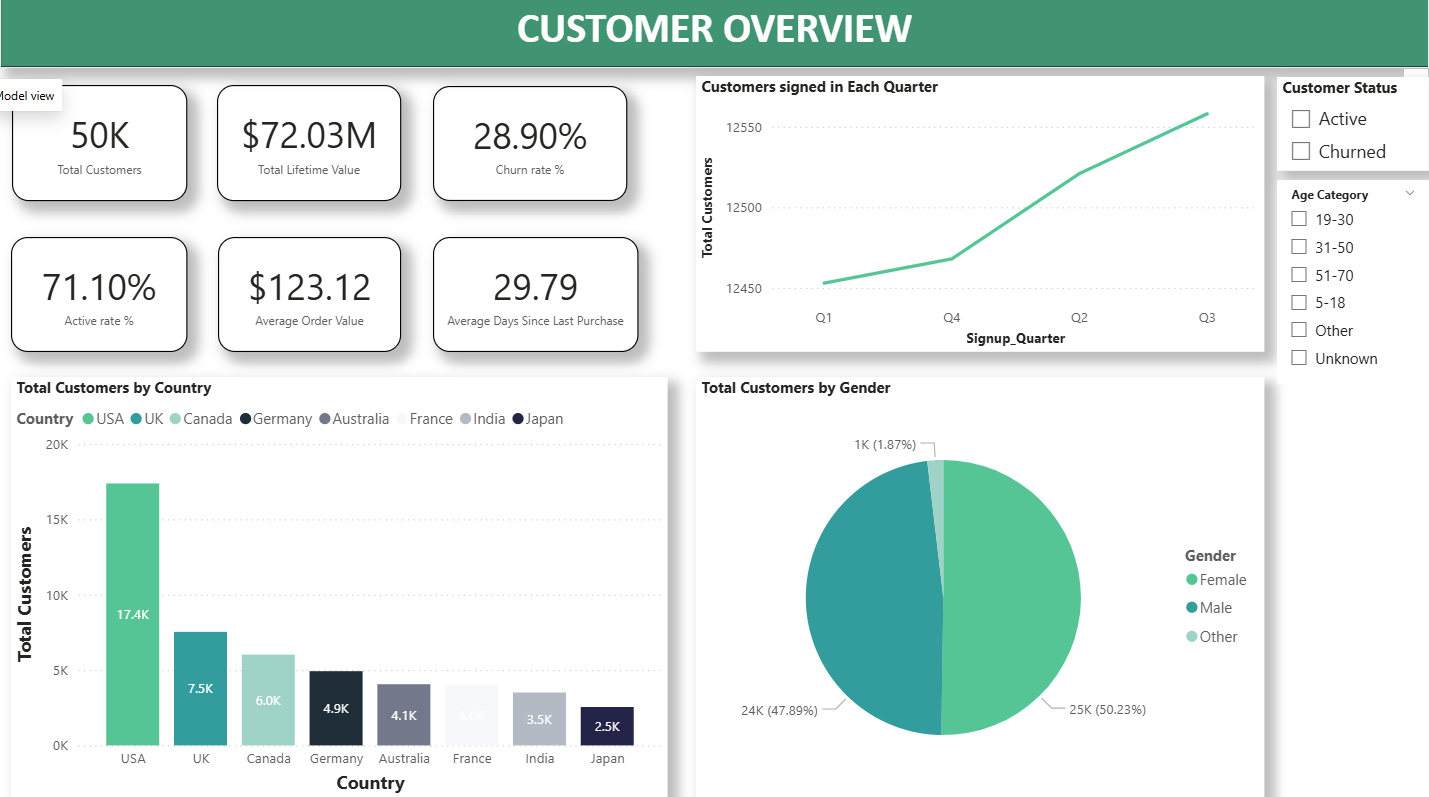

What the dashboard file says about the page in this screenshot:
{"tool":"powerbi","page":{"name":"Customer Overview","canvas":[1280,720],"ordinal":1},"visuals":[{"type":"card","fields":{"Values":["ecommerce_customer_churn_datase.Churn rate %"]},"box":[387.8,81.5,173.7,103],"z":0},{"type":"card","fields":{"Values":["ecommerce_customer_churn_dataset.Total Lifetime Value"]},"box":[194.3,80.6,164.8,103.9],"z":1000},{"type":"textbox","box":[0,0,1280,65],"z":2000},{"type":"card","fields":{"Values":["ecommerce_customer_churn_datase.Total Customers"]},"box":[10.7,80.6,156.7,103.9],"z":3000},{"type":"card","fields":{"Values":["ecommerce_customer_churn_dataset.Active rate %"]},"box":[9.9,216.7,157.6,103],"z":4000},{"type":"card","fields":{"Values":["Avg(ecommerce_customer_churn_dataset.Average_Order_Value)"]},"box":[195.2,216.7,163.9,103],"z":5000},{"type":"card","fields":{"Values":["Avg(ecommerce_customer_churn_dataset.Days_Since_Last_Purchase)"]},"box":[387.8,216.7,183.6,103],"z":6000},{"type":"columnChart","title":"Total Customers by Country","fields":{"Category":["ecommerce_customer_churn_dataset.Country"],"Y":["ecommerce_customer_churn_dataset.Total Customers"],"Series":["ecommerce_customer_churn_dataset.Country"]},"box":[10.1,341.9,588.1,378.3],"z":7000},{"type":"pieChart","fields":{"Category":["ecommerce_customer_churn_dataset.Gender"],"Y":["ecommerce_customer_churn_dataset.Total Customers"]},"box":[623,342,509,378],"z":8000},{"type":"lineChart","title":"Customers signed in Each Quarter","fields":{"Category":["ecommerce_customer_churn_dataset.Signup_Quarter"],"Y":["ecommerce_customer_churn_dataset.Total Customers"]},"box":[623.3,72.5,508.7,247.2],"z":9000},{"type":"slicer","title":"Customer Status","fields":{"Values":["ecommerce_customer_churn_dataset.Churned_status"]},"box":[1144,73,136,84],"z":11000},{"type":"slicer","fields":{"Values":["ecommerce_customer_churn_dataset.Age Category"]},"box":[1144,166,136,183],"z":11001}]}

Visuals, with their boxes on the page's 1280x720 design canvas (x1, y1, x2, y2). These are canvas units, not pixel positions in the 1429x797 screenshot, which may show the page scaled, cropped or inside an application window:
card - ecommerce_customer_churn_datase.Churn rate %: select_region(388, 82, 562, 184)
card - ecommerce_customer_churn_dataset.Total Lifetime Value: select_region(194, 81, 359, 184)
textbox: select_region(0, 0, 1280, 65)
card - ecommerce_customer_churn_datase.Total Customers: select_region(11, 81, 167, 184)
card - ecommerce_customer_churn_dataset.Active rate %: select_region(10, 217, 168, 320)
card - Avg(ecommerce_customer_churn_dataset.Average_Order_Value): select_region(195, 217, 359, 320)
card - Avg(ecommerce_customer_churn_dataset.Days_Since_Last_Purchase): select_region(388, 217, 571, 320)
"Total Customers by Country" columnChart: select_region(10, 342, 598, 720)
pieChart - ecommerce_customer_churn_dataset.Gender x ecommerce_customer_churn_dataset.Total Customers: select_region(623, 342, 1132, 720)
"Customers signed in Each Quarter" lineChart: select_region(623, 72, 1132, 320)
"Customer Status" slicer: select_region(1144, 73, 1280, 157)
slicer - ecommerce_customer_churn_dataset.Age Category: select_region(1144, 166, 1280, 349)
